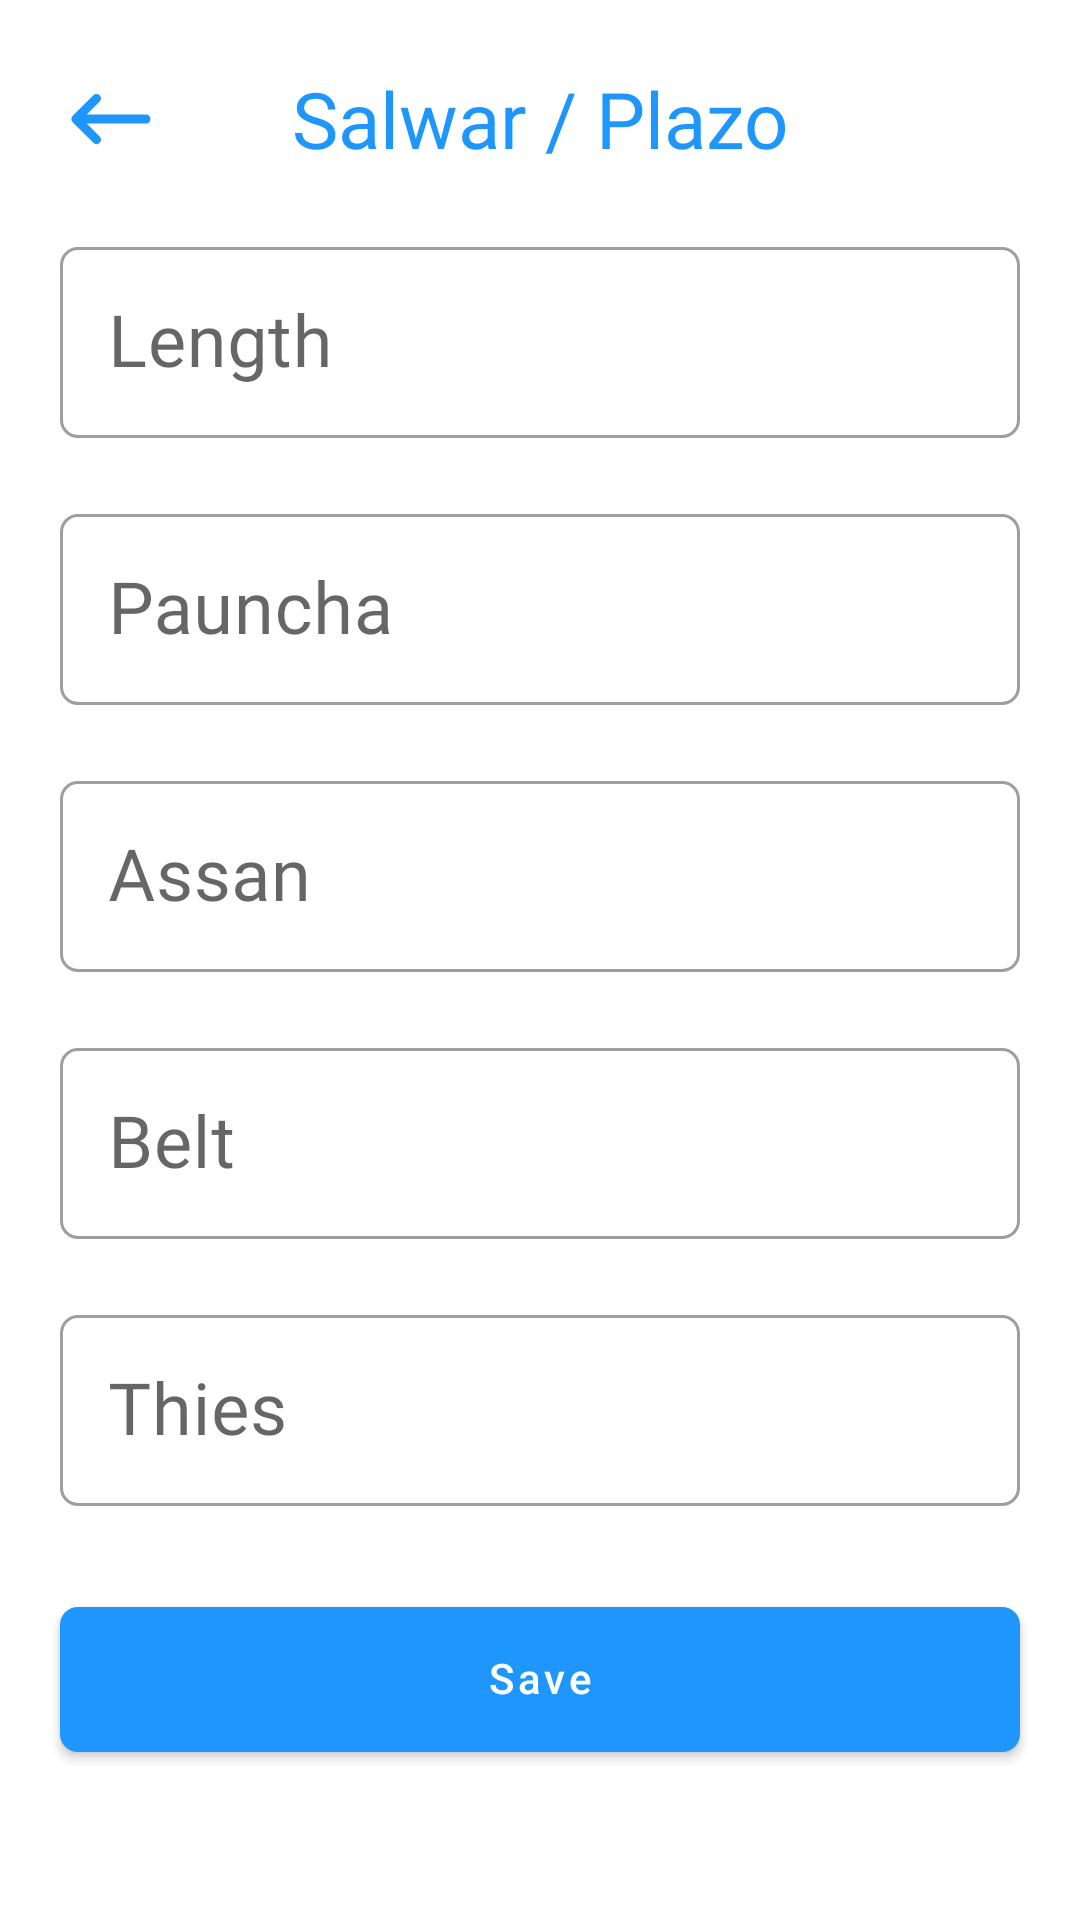

Icon click points for this 1080*1920 phone screenshot, format [x,y]:
back: [111,119]
